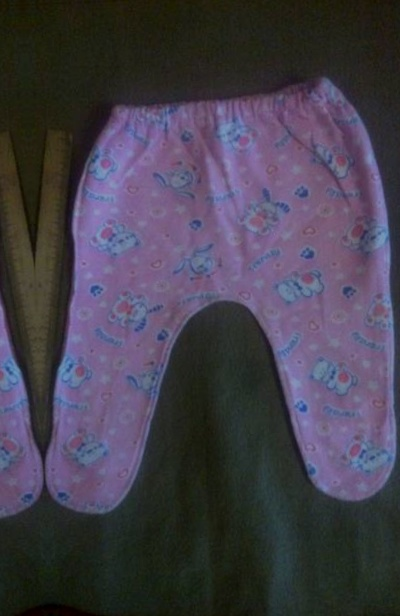Pants: (48, 77, 400, 539), (0, 94, 25, 557)
